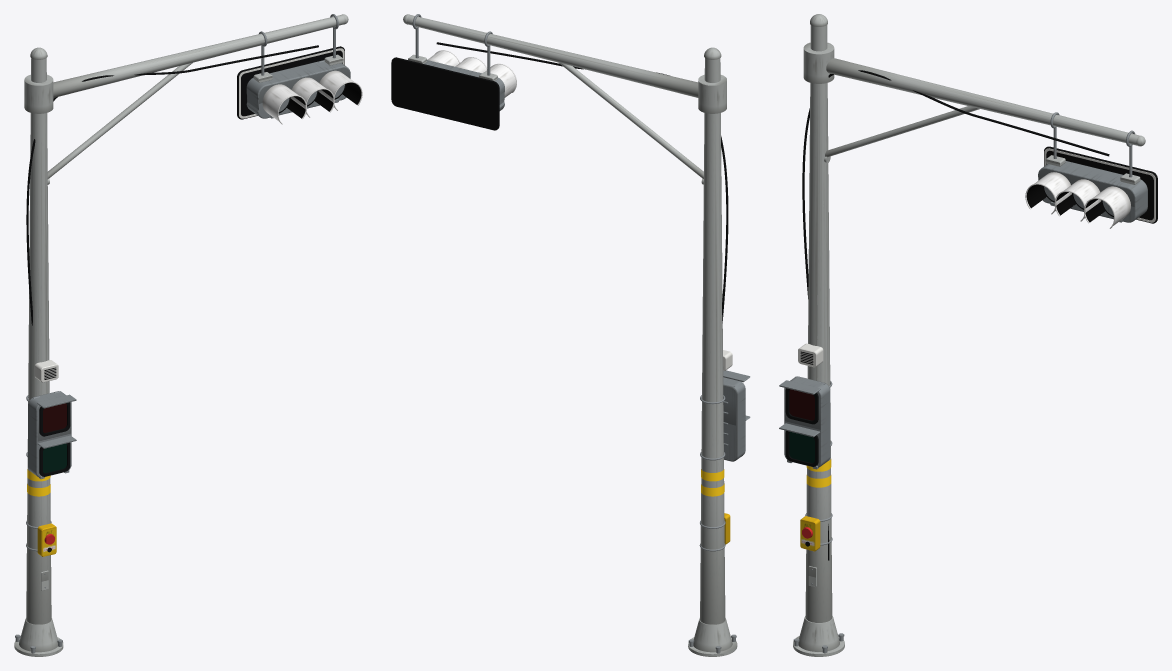
3 renders of one model, left to right at view 1: azimuth 30°, elevation 25°; view 2: azimuth 150°, elevation 25°; view 3: azimuth 330°, elevation 25°, orthographic. The views are drawn at different scales.
Visible parts, largest first — view 1: jp-combo-arm-ped, opt_backplate_on, opt_button_on, lamp_p_red, lamp_p_walk; view 2: jp-combo-arm-ped, opt_backplate_on; view 3: jp-combo-arm-ped, opt_backplate_on, opt_button_on, lamp_p_red, lamp_p_walk.
Part boxes in pixels (x1,y1,x2,y2): jp-combo-arm-ped: [14, 14, 362, 656]; opt_backplate_on: [237, 46, 344, 119]; opt_button_on: [26, 521, 56, 556]; lamp_p_red: [43, 403, 66, 432]; lamp_p_walk: [43, 443, 66, 473]; jp-combo-arm-ped: [403, 14, 750, 656]; opt_backplate_on: [391, 57, 499, 130]; jp-combo-arm-ped: [779, 14, 1147, 656]; opt_backplate_on: [1044, 146, 1157, 223]; opt_button_on: [800, 513, 832, 551]; lamp_p_red: [789, 389, 814, 420]; lamp_p_walk: [789, 432, 814, 462].
Size of the model in its own units: 3.74 by 6.38 by 0.6577.
Materials: 23 (4 with a texture image).
